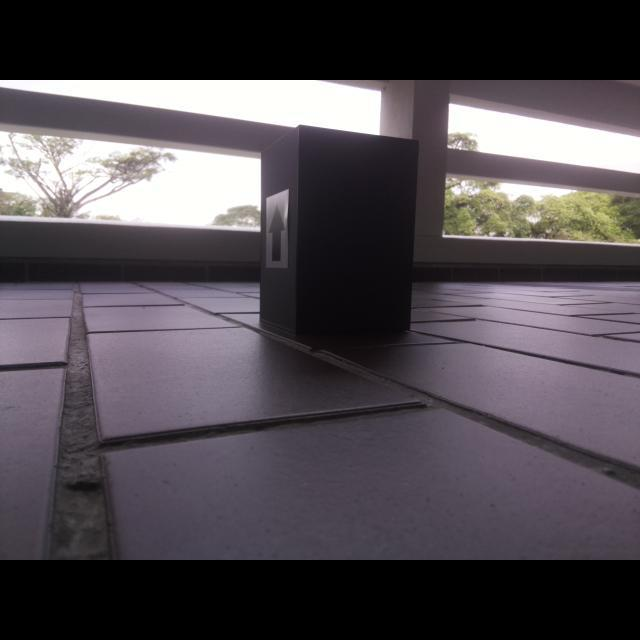UP: (267, 201, 287, 262)
